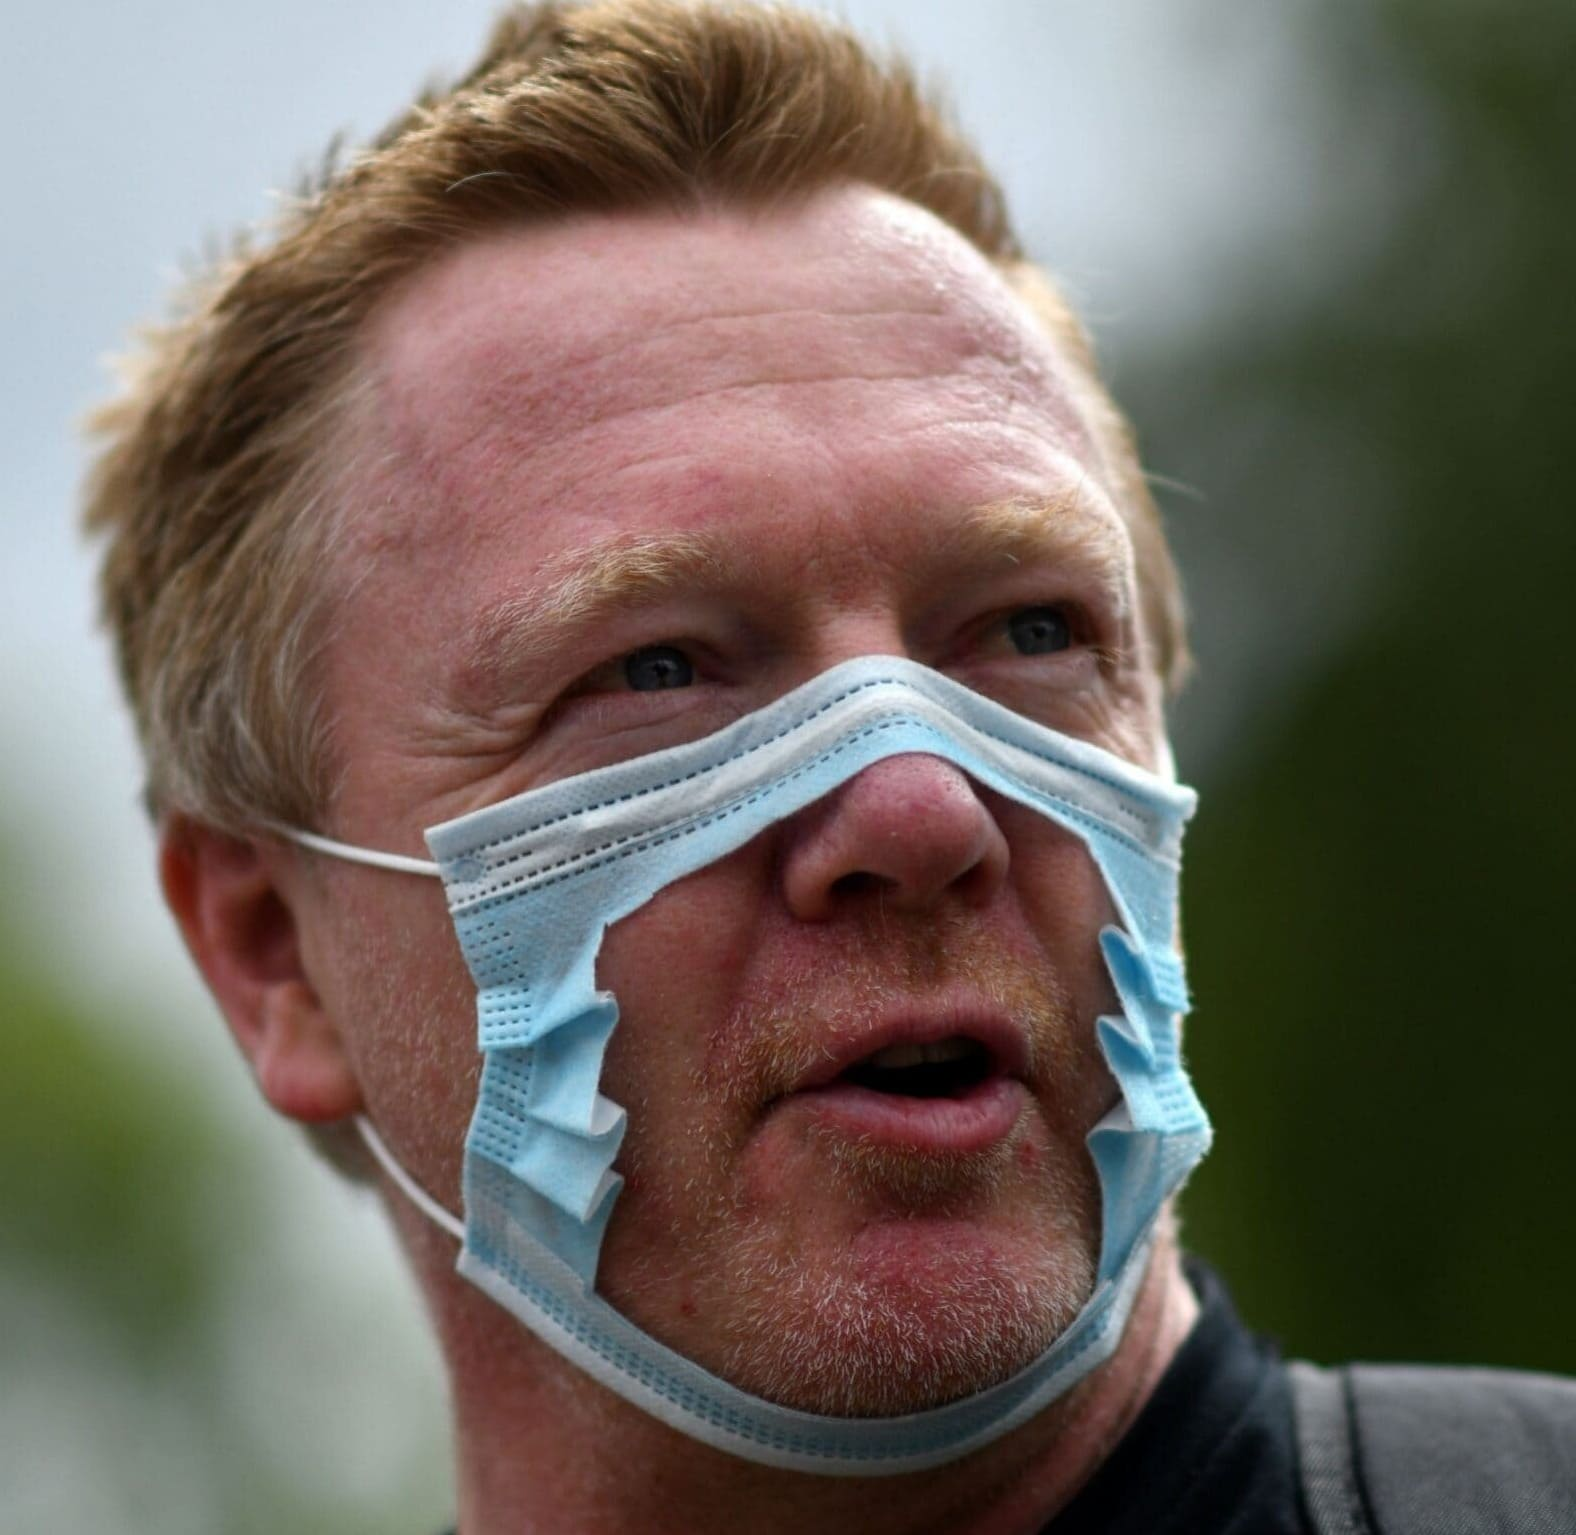with_incorrect_mask: (427, 338, 1210, 1476)
